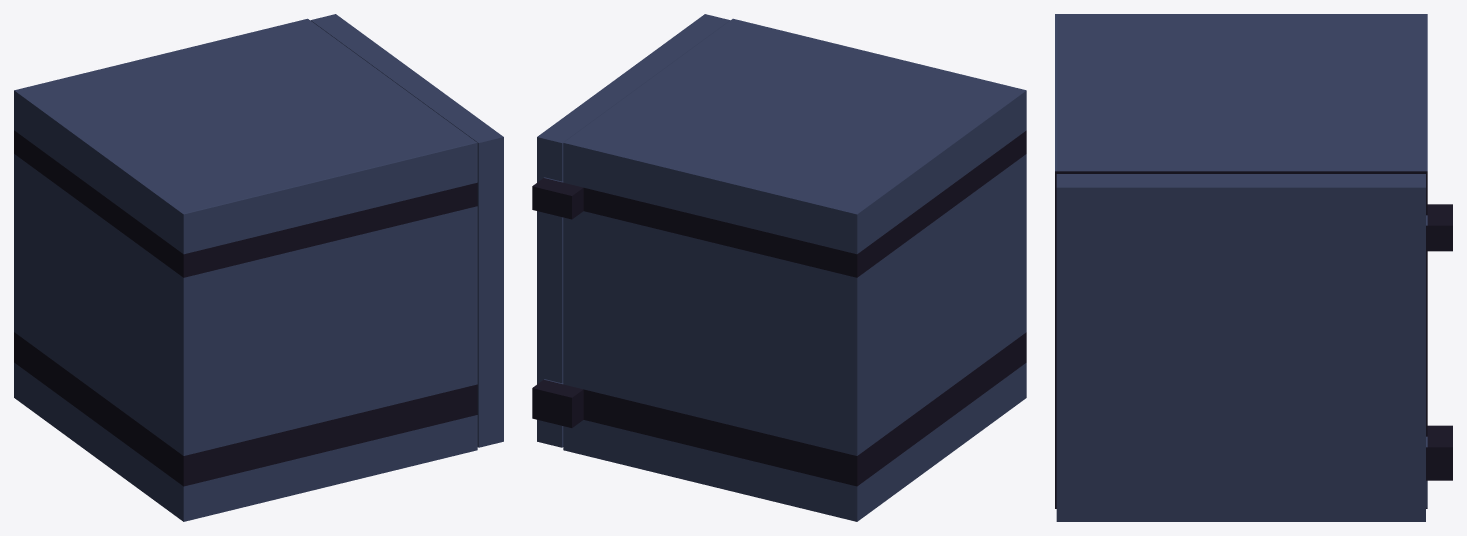
Rendered from safe.glb.
3 views of the same model, side by side, from view 1: azimuth 30°, elevation 25°; view 2: azimuth 150°, elevation 25°; view 3: azimuth 270°, elevation 25° (orthographic). The views are drawn at different scales.
Visible parts, largest first — view 1: Cube, Cube.001; view 2: Cube, Cube.001; view 3: Cube.001, Cube.
Boxes of the visible parts, <box> form: Cube: <box>14,18,477,521</box>; Cube.001: <box>310,14,503,447</box>; Cube: <box>532,18,1026,521</box>; Cube.001: <box>537,14,730,447</box>; Cube.001: <box>1056,174,1425,521</box>; Cube: <box>1055,14,1452,508</box>.
Bounding box in the file's own units: 3.44 × 3.15 × 3.36.
2 materials, 2 textured.
